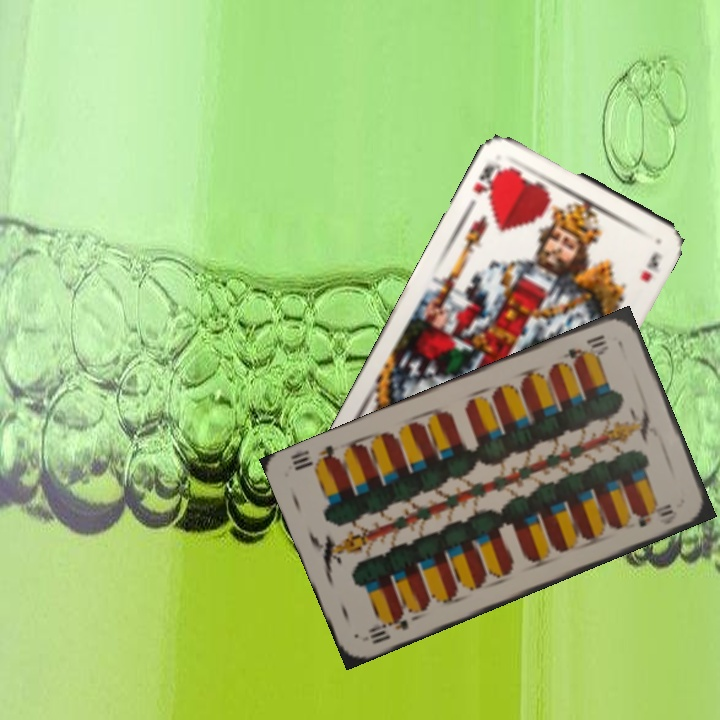E10: (364, 608, 411, 647), (559, 330, 609, 365)
HK: (468, 159, 507, 201)
